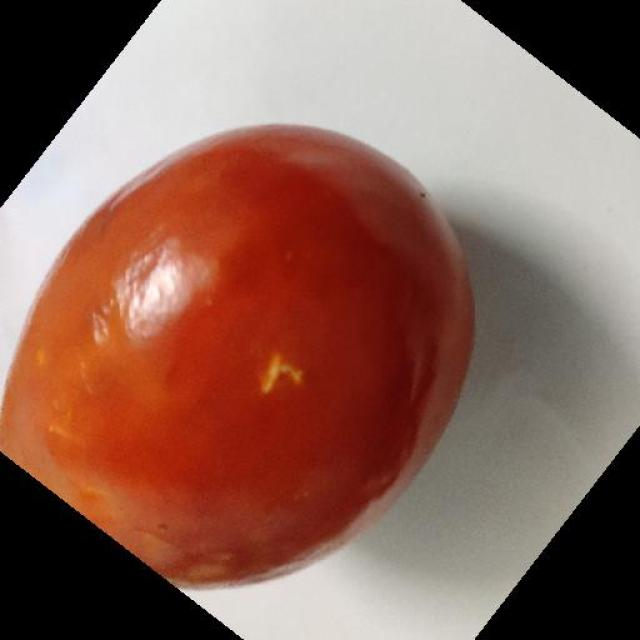Stale_tomato: (59, 91, 472, 533)
